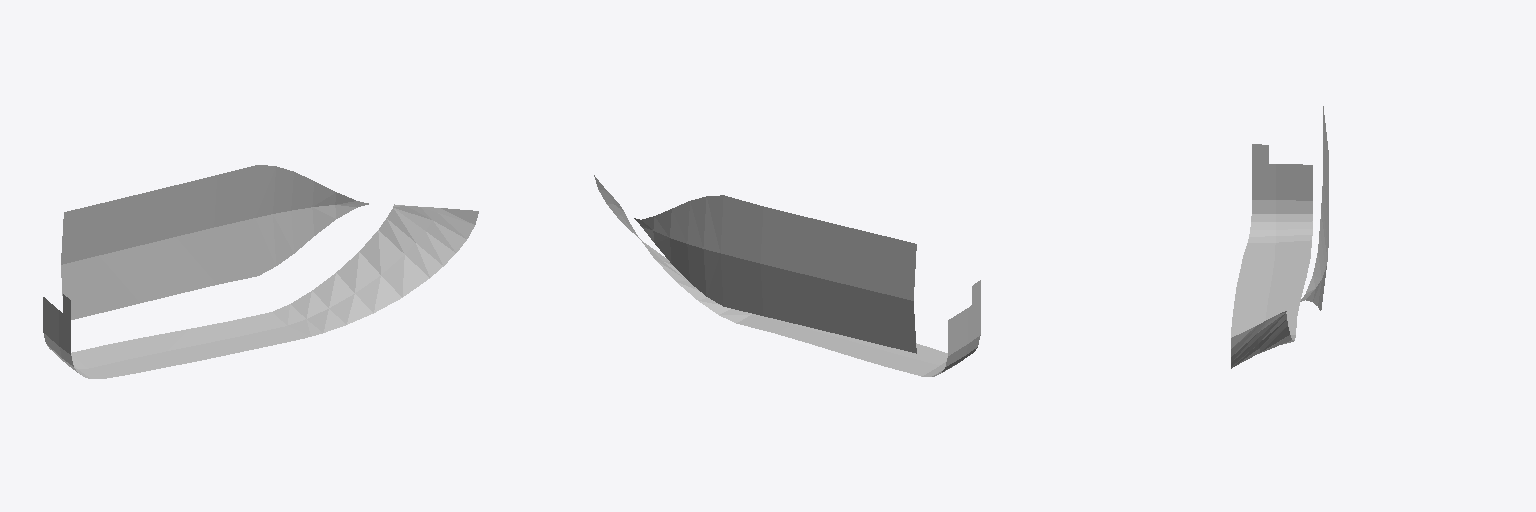
File: boat1.obj
The picture shows the model from 3 angles: view 1: azimuth 30°, elevation 25°; view 2: azimuth 150°, elevation 25°; view 3: azimuth 270°, elevation 25°; orthographic projection.
Parts seen in each view (by area): view 1: Object01; view 2: Object01; view 3: Object01.
Part boxes in pixels (x1,y1,x2,y2): Object01: (43,165,478,378); Object01: (594,175,980,376); Object01: (1231,106,1328,368).
Bounding box in the file's own units: 5.54 × 1.87 × 1.19.